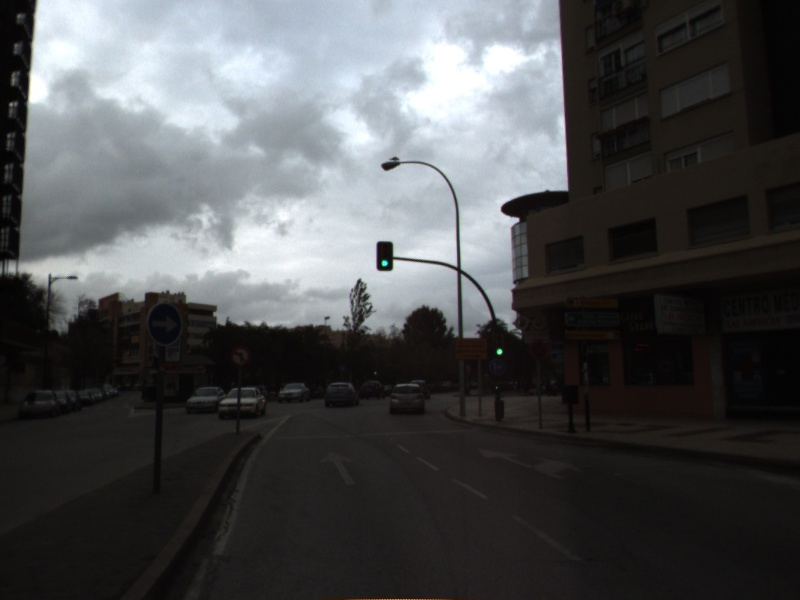STRAIGHT: (317, 449, 358, 486)
STRAIGHT_RIGHT: (475, 445, 584, 481)
